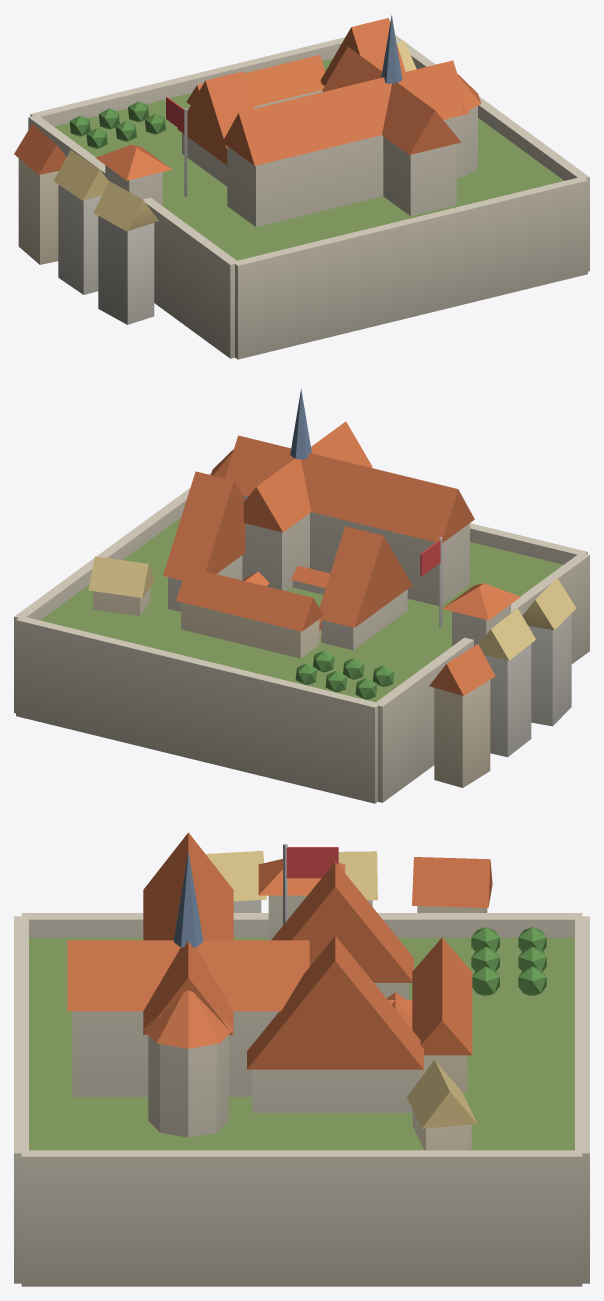
Rendered from abbey_west_b.glb.
3 views of the same model, one above another, from view 1: azimuth 30°, elevation 25°; view 2: azimuth 150°, elevation 25°; view 3: azimuth 270°, elevation 25° (orthographic). The views are drawn at different scales.
Parts seen in each view (by area): view 1: abbey_west_b; view 2: abbey_west_b; view 3: abbey_west_b.
Part boxes in pixels (x1,y1,x2,y2): abbey_west_b: (14, 15, 589, 359); abbey_west_b: (14, 388, 589, 803); abbey_west_b: (14, 832, 589, 1286).
Size of the model in its own units: 1.97 by 1.13 by 1.73.
